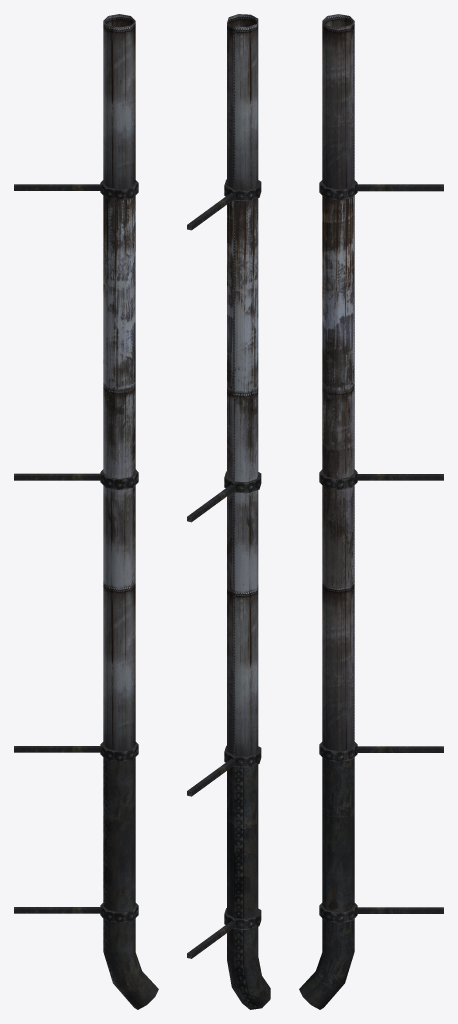
File: rainpipe_5m_bottom.DAE
The picture shows the model from 3 angles, left to right: view 1: azimuth 90°, elevation 25°; view 2: azimuth 150°, elevation 25°; view 3: azimuth 270°, elevation 25°; orthographic projection.
Visible parts, largest first — view 1: Object012, Cylinder003; view 2: Object012, Cylinder003; view 3: Object012, Cylinder003.
Part boxes in pixels (bbox=[...]): Object012: bbox=[103, 14, 135, 751]; Cylinder003: bbox=[14, 180, 158, 1009]; Object012: bbox=[227, 14, 258, 756]; Cylinder003: bbox=[187, 179, 270, 1009]; Object012: bbox=[322, 14, 354, 751]; Cylinder003: bbox=[299, 180, 443, 1009].
Bounding box in the file's own units: 0.175 × 4.99 × 0.6647.
